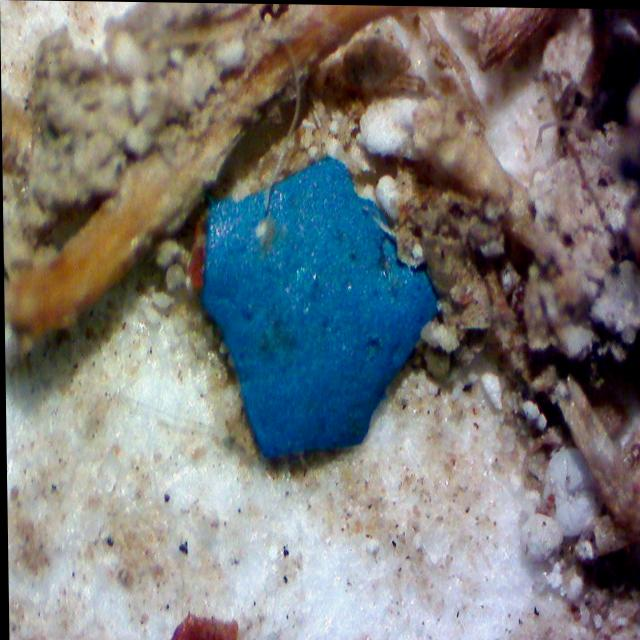microplastic: (200, 153, 437, 460)
